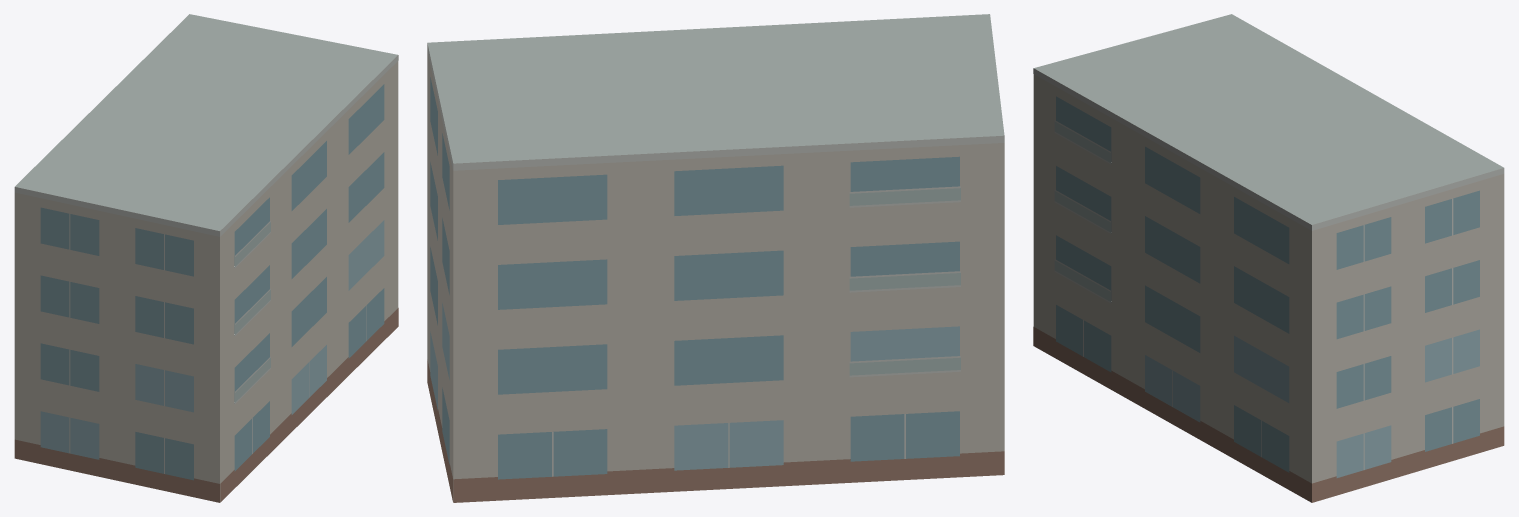
Rendered from survey-upis-32903843.glb.
3 renders of one model, left to right at view 1: azimuth 30°, elevation 25°; view 2: azimuth 150°, elevation 25°; view 3: azimuth 270°, elevation 25°, orthographic. The views are drawn at different scales.
Parts seen in each view (by area): view 1: survey-upis-32903843.tmp; view 2: survey-upis-32903843.tmp; view 3: survey-upis-32903843.tmp.
Part boxes in pixels (box(x1,y1,x2,y2)): survey-upis-32903843.tmp: box(14, 14, 398, 502); survey-upis-32903843.tmp: box(427, 14, 1004, 502); survey-upis-32903843.tmp: box(1033, 14, 1504, 502).
Bounding box in the file's own units: 18.91 × 11.6 × 17.82.
